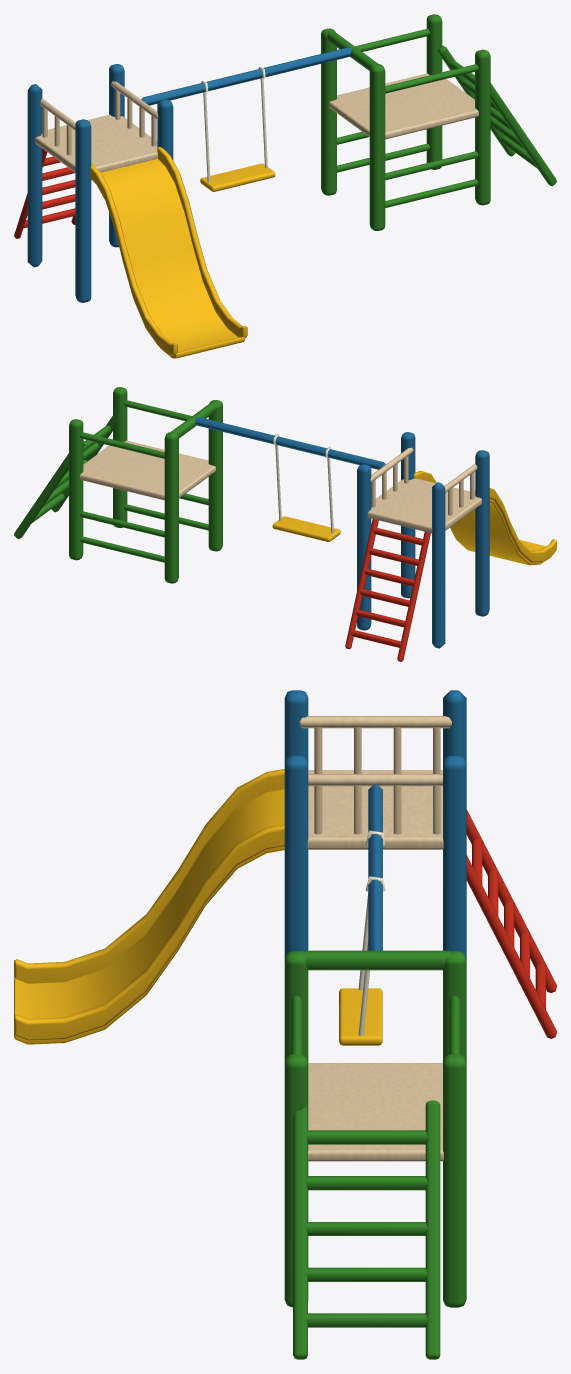
File: playground.fbx
The picture shows the model from 3 angles, top to bottom: view 1: azimuth 30°, elevation 25°; view 2: azimuth 150°, elevation 25°; view 3: azimuth 270°, elevation 25°; orthographic projection. The views are drawn at different scales.
Visible parts, largest first — view 1: playground; view 2: playground; view 3: playground.
Part boxes in pixels (bbox=[...]): playground: bbox=[14, 14, 556, 358]; playground: bbox=[14, 387, 556, 661]; playground: bbox=[14, 690, 556, 1359].
Size of the model in its own units: 5000 by 1800 by 3000.
Materials: 1 (1 with a texture image).
